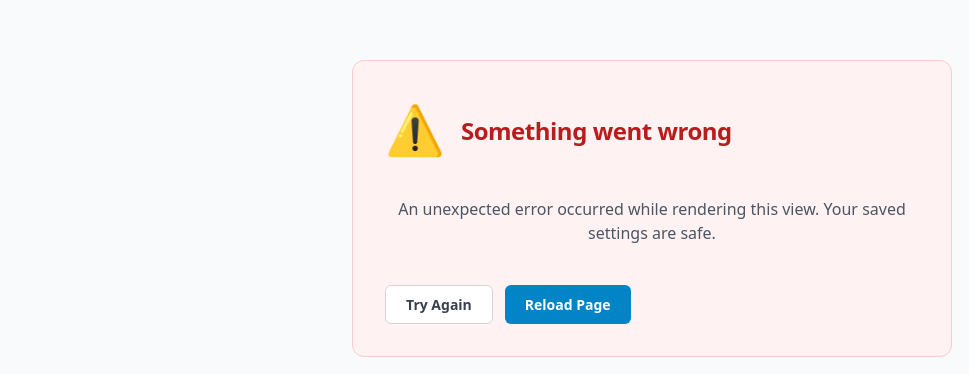
Scenario: ErrorBoundary Component › resets error state when clicking Try Again
Expected: the heading "Something went wrong" is shown, [461,115,732,147]
Click the button "Try Again": (439, 304) [385,285,493,324]
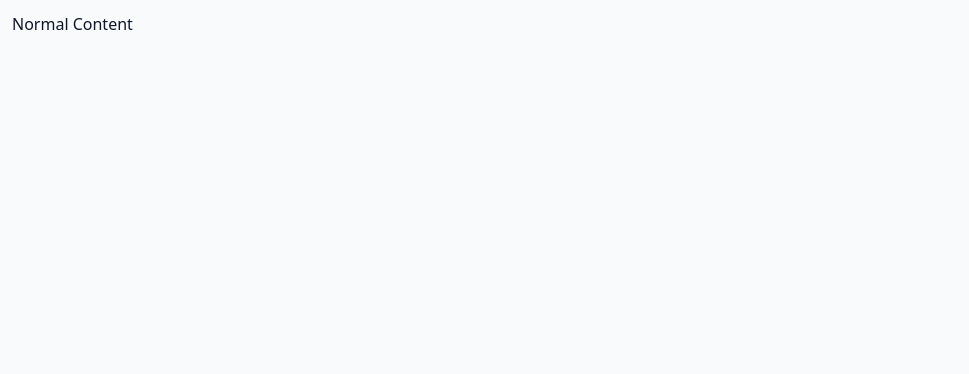
Expected: the text "Normal Content" is shown, [12,13,133,35]
